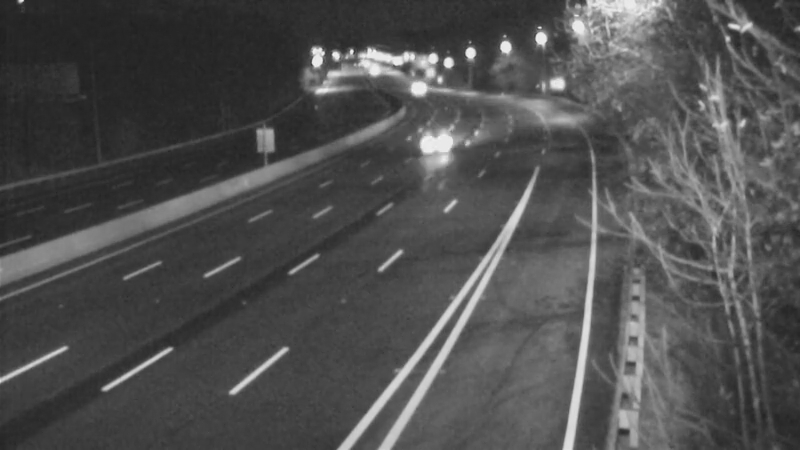vehicle: (389, 60, 439, 110), (413, 119, 463, 169)
